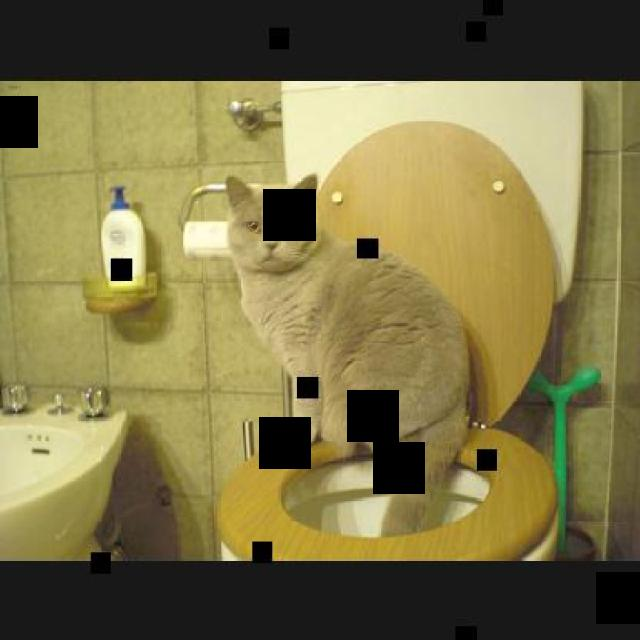unauthorized: (222, 172, 484, 537)
